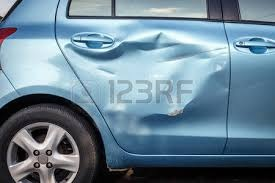Dent: (79, 33, 230, 124)
